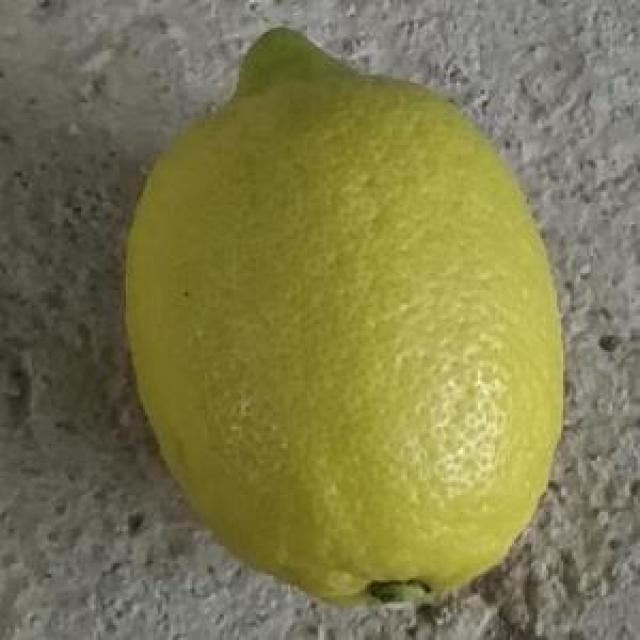lemon: (125, 28, 572, 606)
